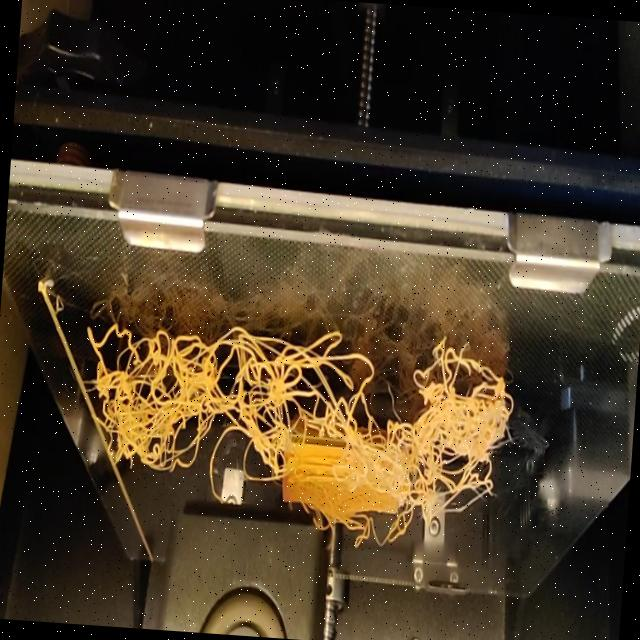spaghetti: (78, 312, 520, 535)
